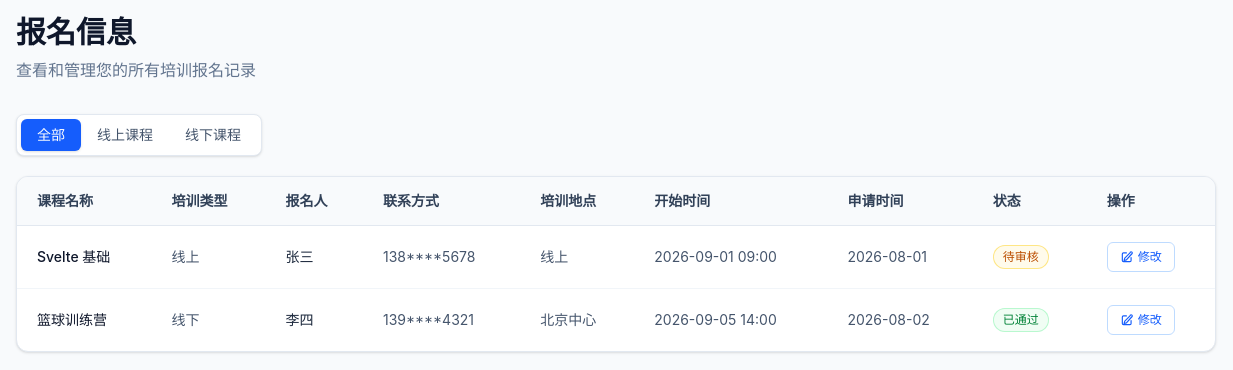
Enrollments Page › should filter online enrollments via the dedicated entry
The width and height of the screenshot is (1233, 370).
Click the button "线上课程". click: (125, 135)
box: x1=81 y1=119 x2=169 y2=151
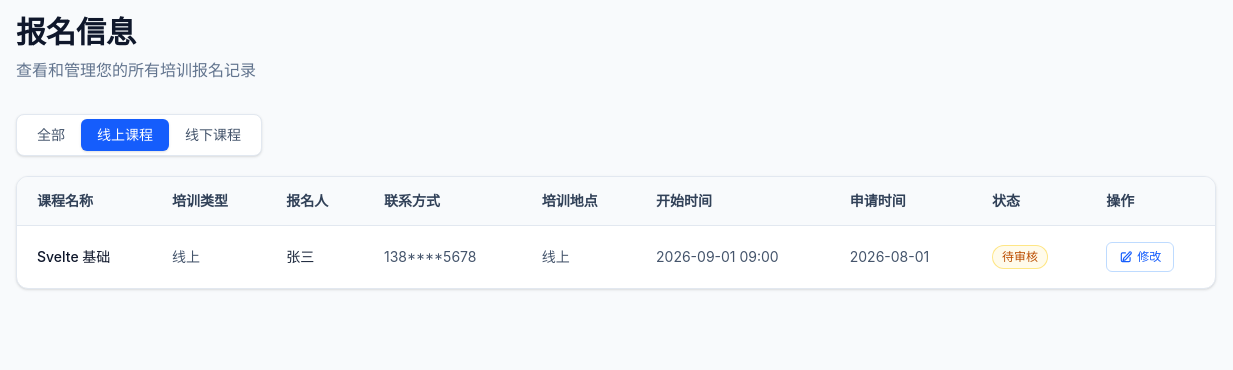
Expected: the text "Svelte 基础" is shown, x1=17 y1=226 x2=152 y2=288
Expected: the text "篮球训练营" is gone
